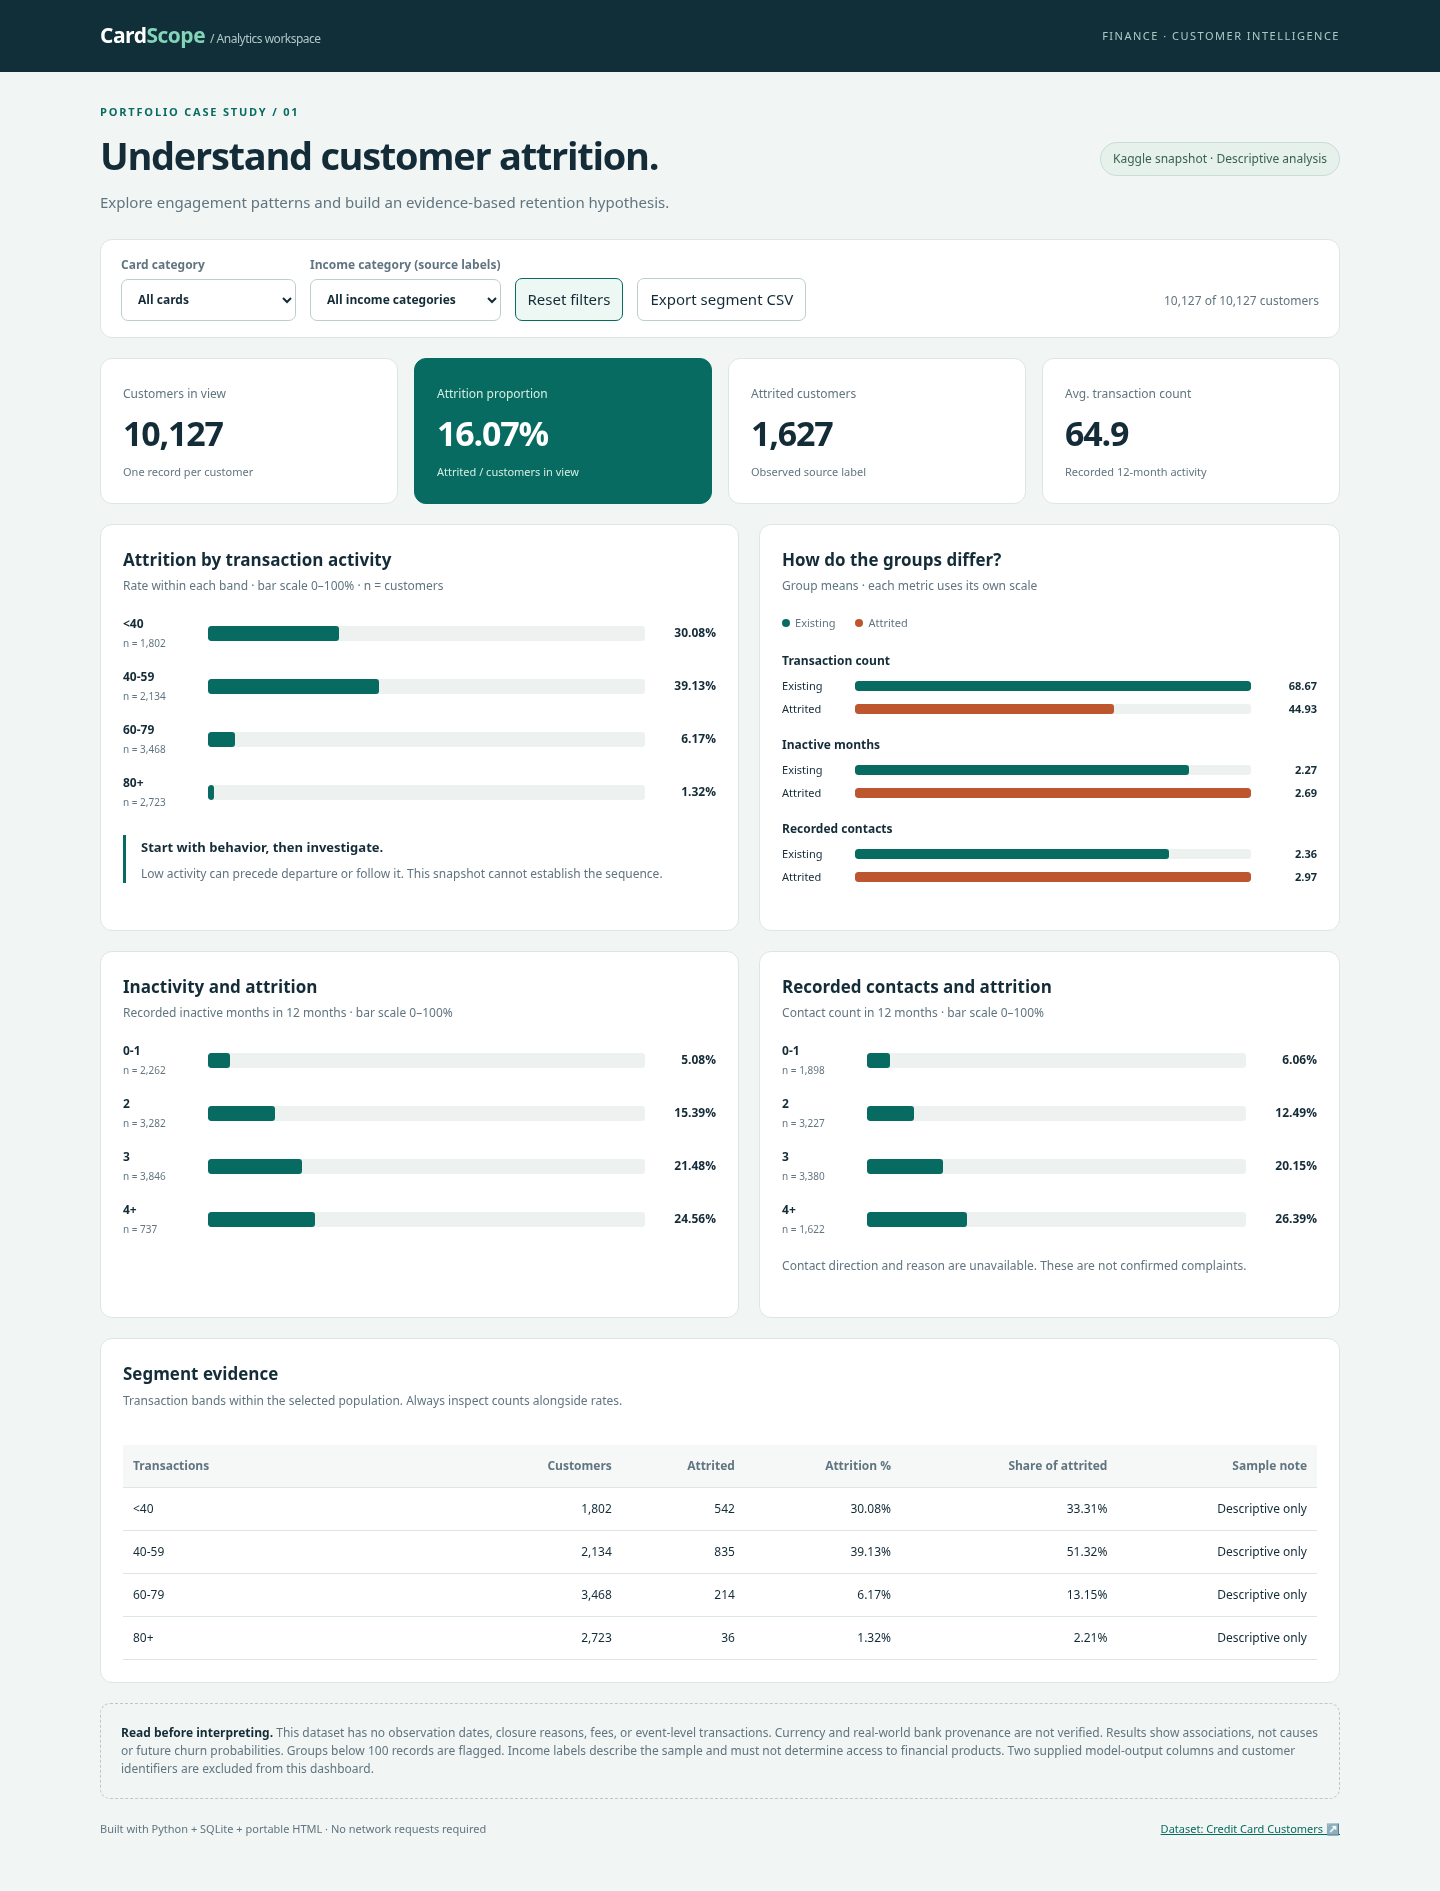

Layout of this report page (visuals, bound fields, positions):
{"tool":"powerbi","page":{"name":"Trends And Behavior","canvas":[1920,1080],"ordinal":1},"visuals":[{"type":"textbox","box":[320,20,1580,60],"z":0},{"type":"textbox","box":[20,20,280,40],"z":1},{"type":"slicer","fields":{"Values":["CustomerSnapshot.Card_Category"]},"box":[20,65,280,210],"z":2},{"type":"slicer","fields":{"Values":["CustomerSnapshot.Inactivity Band"]},"box":[20,285,280,250],"z":3},{"type":"slicer","fields":{"Values":["CustomerSnapshot.Contact Band"]},"box":[20,545,280,250],"z":4},{"type":"columnChart","fields":{"Category":["CustomerSnapshot.Transaction Band"],"Y":["CustomerSnapshot.Attrition Rate"]},"box":[320,85,500,300],"z":5},{"type":"columnChart","fields":{"Category":["CustomerSnapshot.Inactivity Band"],"Y":["CustomerSnapshot.Attrition Rate"]},"box":[840,85,500,300],"z":6},{"type":"columnChart","fields":{"Category":["CustomerSnapshot.Contact Band"],"Y":["CustomerSnapshot.Attrition Rate"]},"box":[1360,85,540,300],"z":7},{"type":"columnChart","fields":{"Category":["CustomerSnapshot.Transaction Band"],"Y":["CustomerSnapshot.Customers"]},"box":[320,400,500,260],"z":8},{"type":"columnChart","fields":{"Category":["CustomerSnapshot.Inactivity Band"],"Y":["CustomerSnapshot.Customers"]},"box":[840,400,500,260],"z":9},{"type":"columnChart","fields":{"Category":["CustomerSnapshot.Contact Band"],"Y":["CustomerSnapshot.Customers"]},"box":[1360,400,540,260],"z":10},{"type":"tableEx","fields":{"Values":["CustomerSnapshot.Transaction Band","CustomerSnapshot.Inactivity Band","CustomerSnapshot.Customers","CustomerSnapshot.Attrited Customers","CustomerSnapshot.Attrition Rate"]},"box":[320,675,1580,385],"z":11}]}

Visuals, with their boxes on the page's 1920x1080 design canvas (x1, y1, x2, y2). These are canvas units, not pixel positions in the 1440x1891 screenshot, which may show the page scaled, cropped or inside an application window:
textbox: (left=320, top=20, right=1900, bottom=80)
textbox: (left=20, top=20, right=300, bottom=60)
slicer - CustomerSnapshot.Card_Category: (left=20, top=65, right=300, bottom=275)
slicer - CustomerSnapshot.Inactivity Band: (left=20, top=285, right=300, bottom=535)
slicer - CustomerSnapshot.Contact Band: (left=20, top=545, right=300, bottom=795)
columnChart - CustomerSnapshot.Transaction Band x CustomerSnapshot.Attrition Rate: (left=320, top=85, right=820, bottom=385)
columnChart - CustomerSnapshot.Inactivity Band x CustomerSnapshot.Attrition Rate: (left=840, top=85, right=1340, bottom=385)
columnChart - CustomerSnapshot.Contact Band x CustomerSnapshot.Attrition Rate: (left=1360, top=85, right=1900, bottom=385)
columnChart - CustomerSnapshot.Transaction Band x CustomerSnapshot.Customers: (left=320, top=400, right=820, bottom=660)
columnChart - CustomerSnapshot.Inactivity Band x CustomerSnapshot.Customers: (left=840, top=400, right=1340, bottom=660)
columnChart - CustomerSnapshot.Contact Band x CustomerSnapshot.Customers: (left=1360, top=400, right=1900, bottom=660)
tableEx - CustomerSnapshot.Transaction Band x CustomerSnapshot.Inactivity Band: (left=320, top=675, right=1900, bottom=1060)
